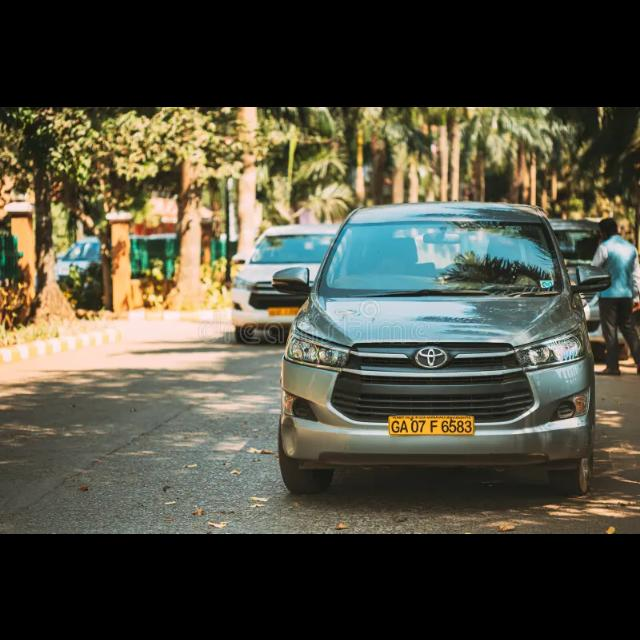vehicles: (282, 207, 602, 498), (229, 222, 343, 342)
